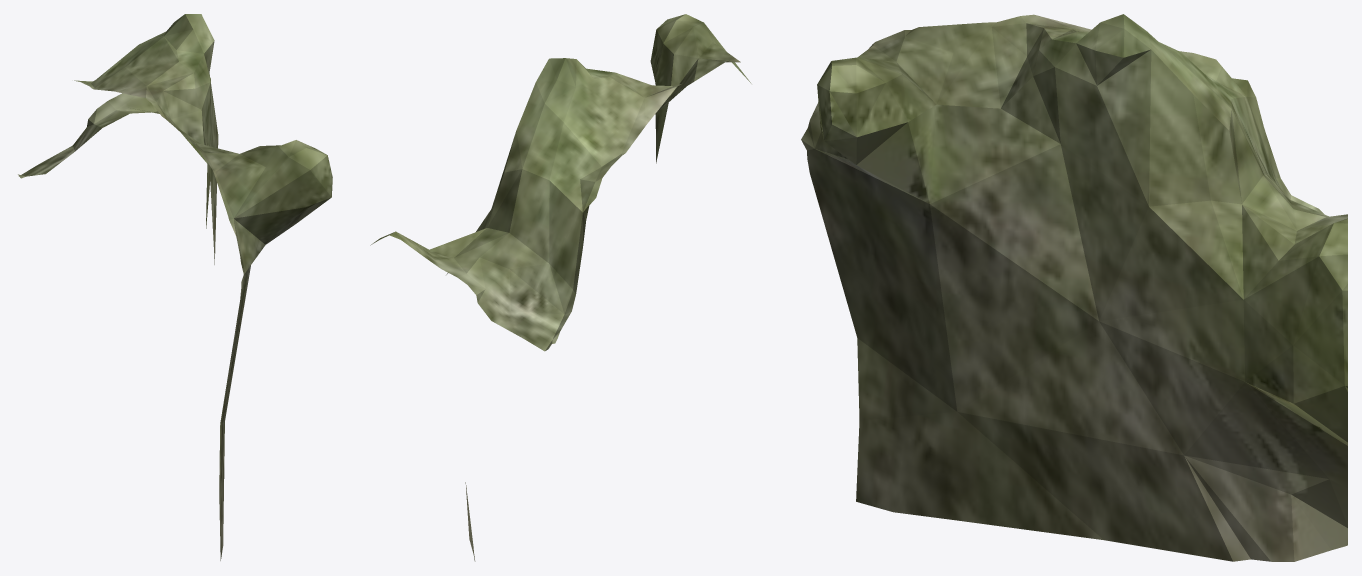
3 renders of one model, left to right at view 1: azimuth 30°, elevation 25°; view 2: azimuth 150°, elevation 25°; view 3: azimuth 270°, elevation 25°, orthographic. The views are drawn at different scales.
Bounding box in the file's own units: 0.8465 × 1.87 × 1.74.
Materials: 1 (1 with a texture image).
